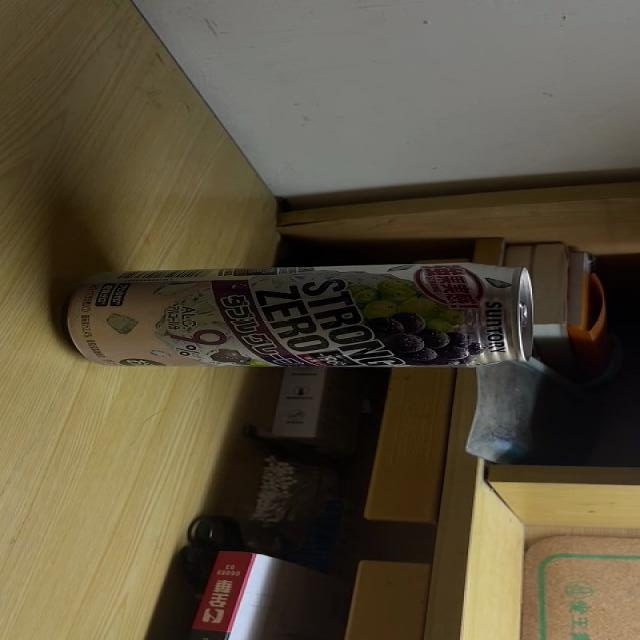Liquor: (65, 262, 538, 371)
